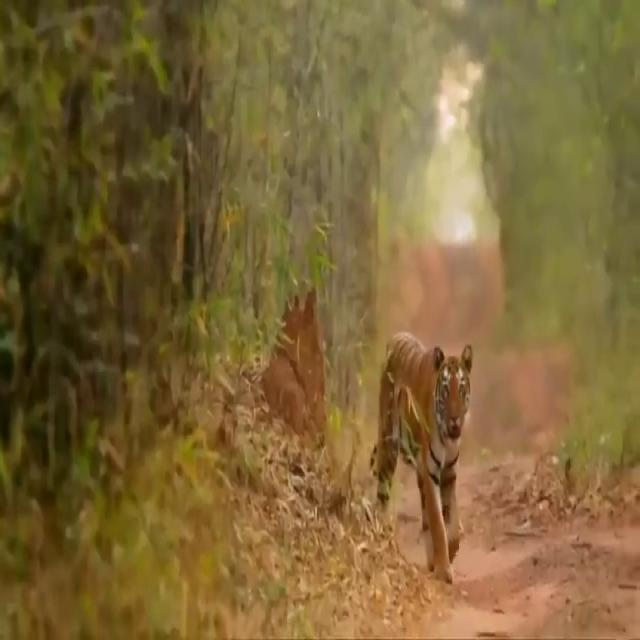tiger: (368, 330, 474, 584)
